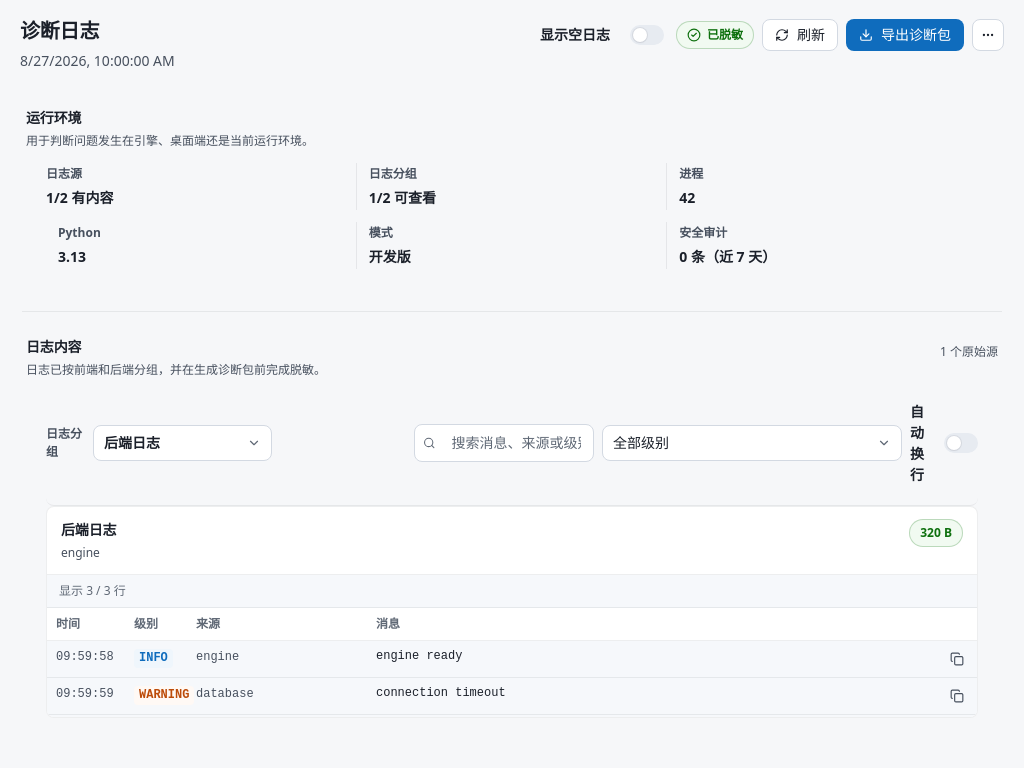
Test: DiagnosticsPage log viewer › keeps a clear failure inline instead of duplicating it in a toast
The width and height of the screenshot is (1024, 768).
Expected: the text "engine ready" is shown, x1=376 y1=649 x2=462 y2=663
Press the mouse on the button named "更多诊断操作" at (988, 34), box x1=972 y1=18 x2=1004 y2=50
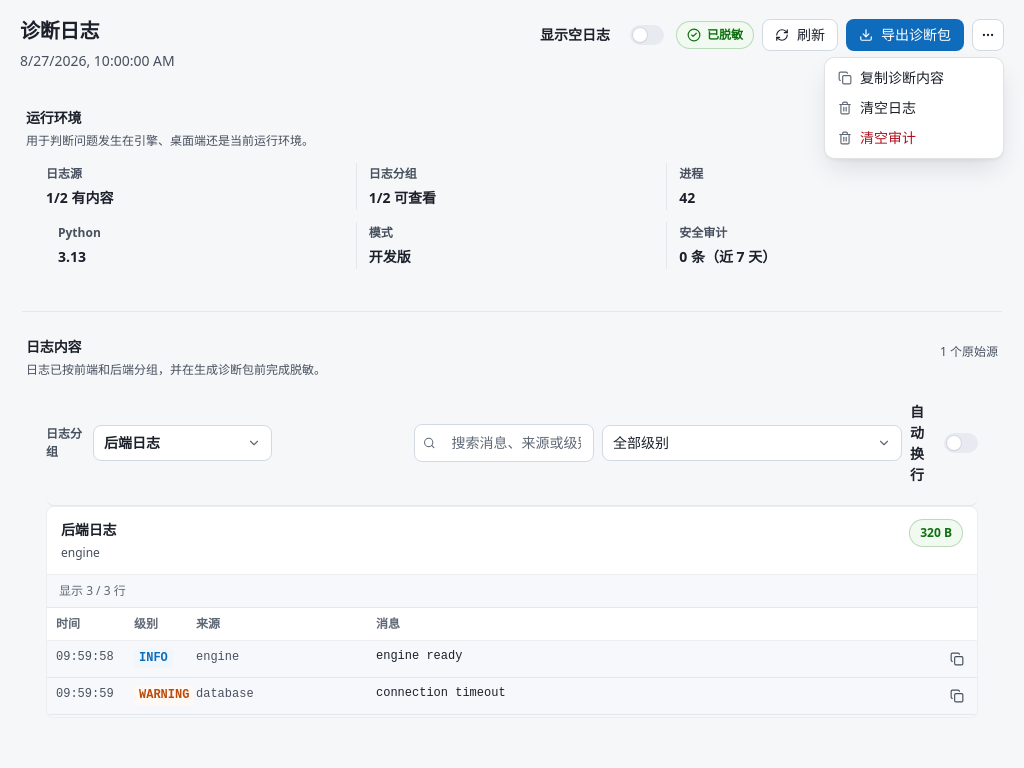
Click the menu item "清空日志" at (877, 107), box x1=838 y1=98 x2=916 y2=116
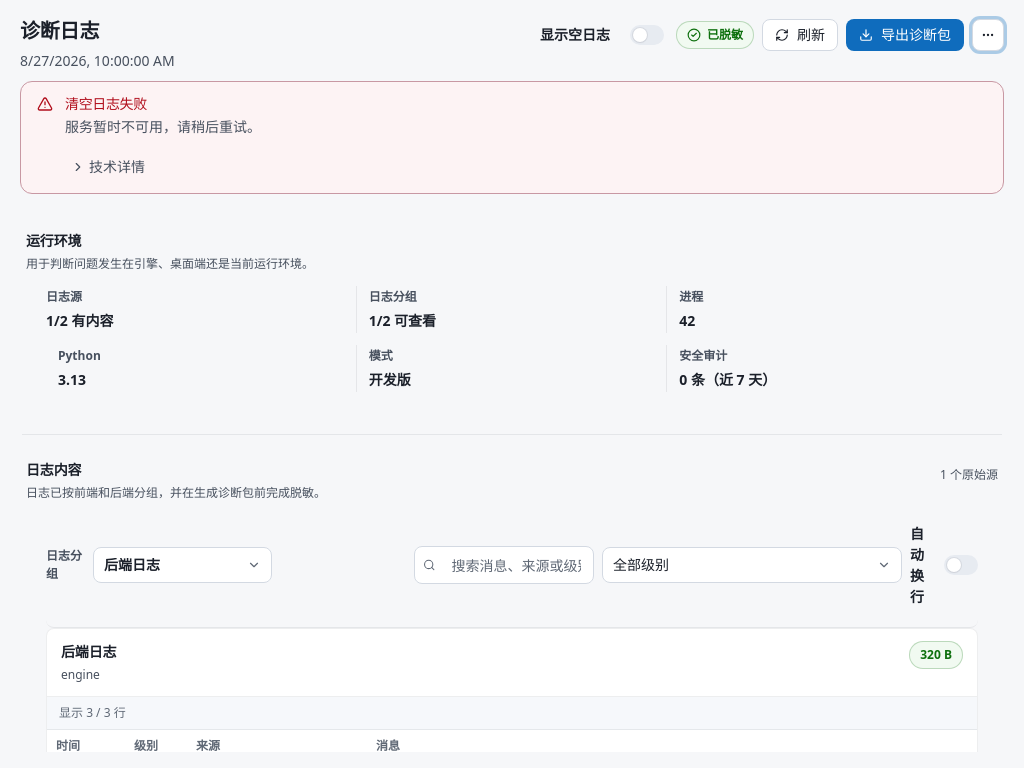
Expected: the text "清空日志失败" is shown, x1=65 y1=94 x2=147 y2=113
Click the heading "技术详情" at (108, 167), box x1=65 y1=153 x2=151 y2=181
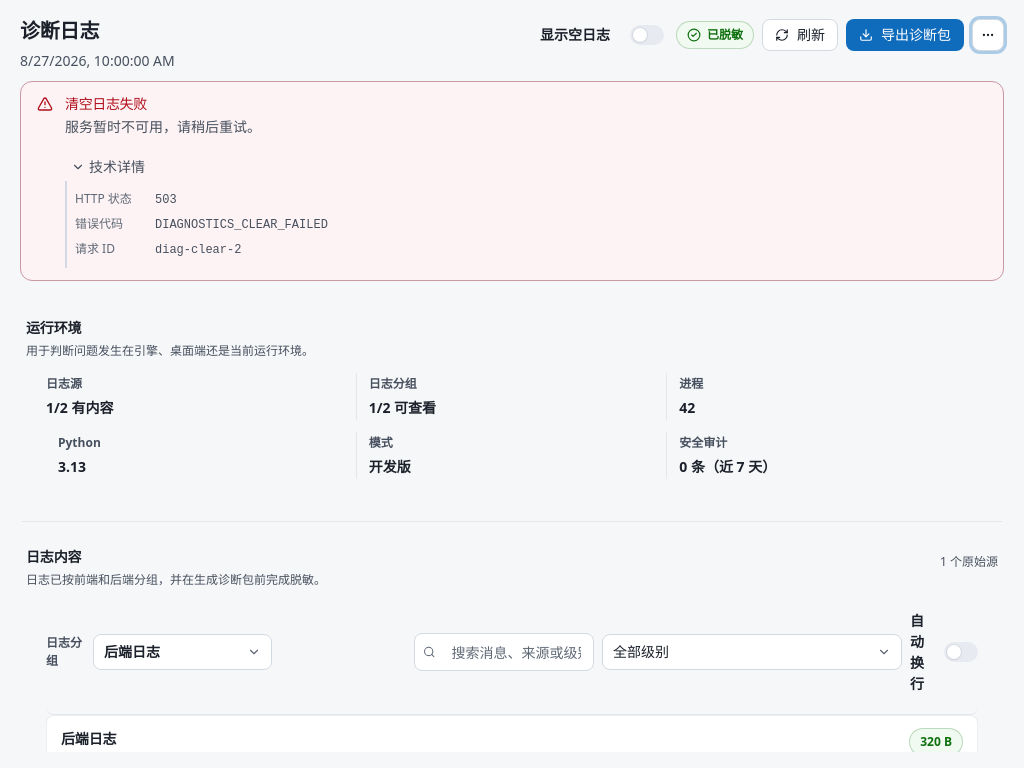
Expected: the text "DIAGNOSTICS_CLEAR_FAILED" is shown, x1=155 y1=218 x2=328 y2=232
Expected: the text "diag-clear-2" is shown, x1=155 y1=243 x2=241 y2=257
